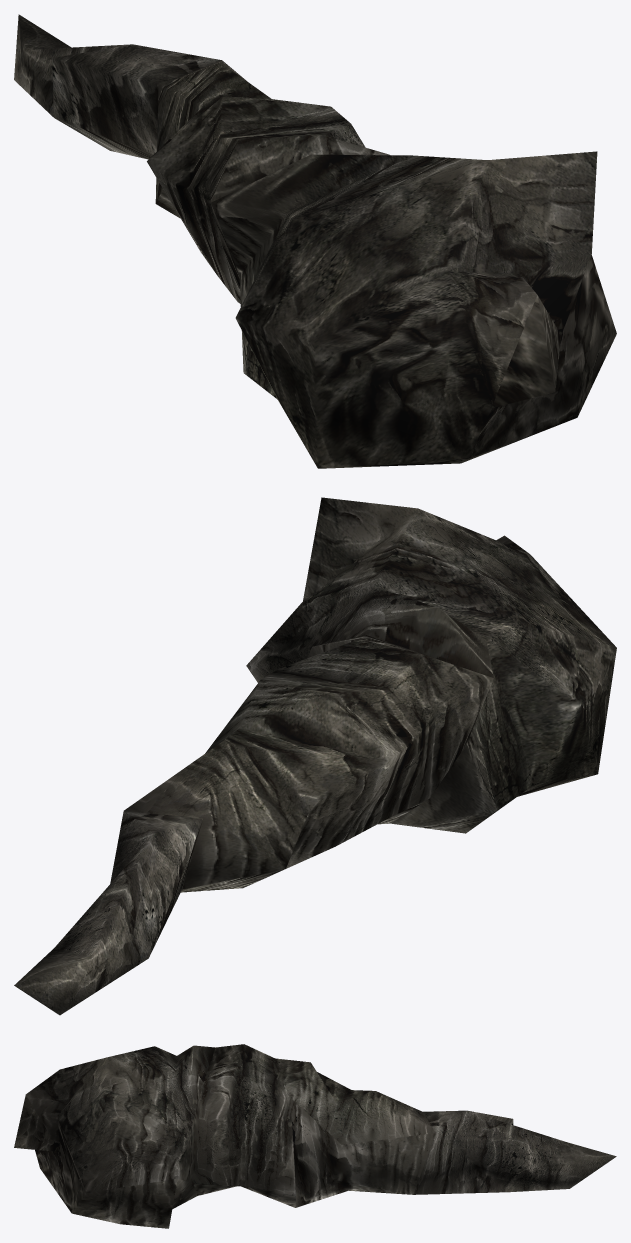
Rendered from AEP_Rock_03_LOD_02.fbx.
The picture shows the model from 3 angles, top to bottom: view 1: azimuth 30°, elevation 25°; view 2: azimuth 150°, elevation 25°; view 3: azimuth 270°, elevation 25°; orthographic projection. The views are drawn at different scales.
Visible parts, largest first — view 1: AEP_Rock_03_LOD_02; view 2: AEP_Rock_03_LOD_02; view 3: AEP_Rock_03_LOD_02.
Boxes of the visible parts, x1=… form: AEP_Rock_03_LOD_02: x1=14, y1=14, x2=616, y2=468; AEP_Rock_03_LOD_02: x1=14, y1=497, x2=616, y2=1015; AEP_Rock_03_LOD_02: x1=14, y1=1044, x2=616, y2=1228.
Size of the model in its own units: 5.67 by 4.69 by 15.6.
